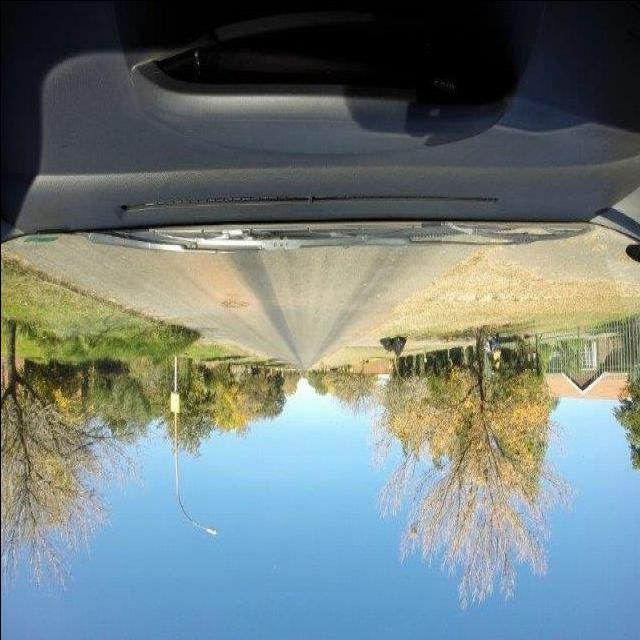lubang: (219, 290, 252, 316)
